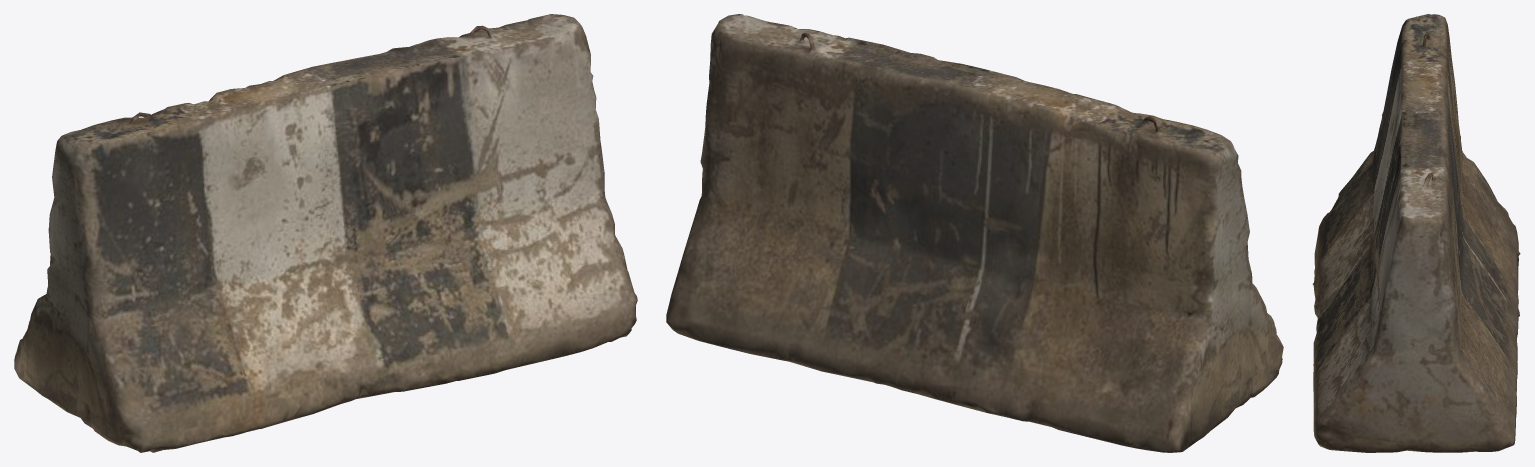
The model's file is concrete_road_barrier.glb.
3 renders of one model, left to right at view 1: azimuth 30°, elevation 25°; view 2: azimuth 150°, elevation 25°; view 3: azimuth 270°, elevation 25°, orthographic. The views are drawn at different scales.
Parts seen in each view (by area): view 1: concrete_road_barrier; view 2: concrete_road_barrier; view 3: concrete_road_barrier.
Part boxes in pixels (x1,y1,x2,y2): concrete_road_barrier: (14, 14, 637, 452); concrete_road_barrier: (666, 14, 1283, 452); concrete_road_barrier: (1312, 14, 1520, 452).
Size of the model in its own units: 1.54 by 0.8297 by 0.6387.
1 material, 1 textured.
